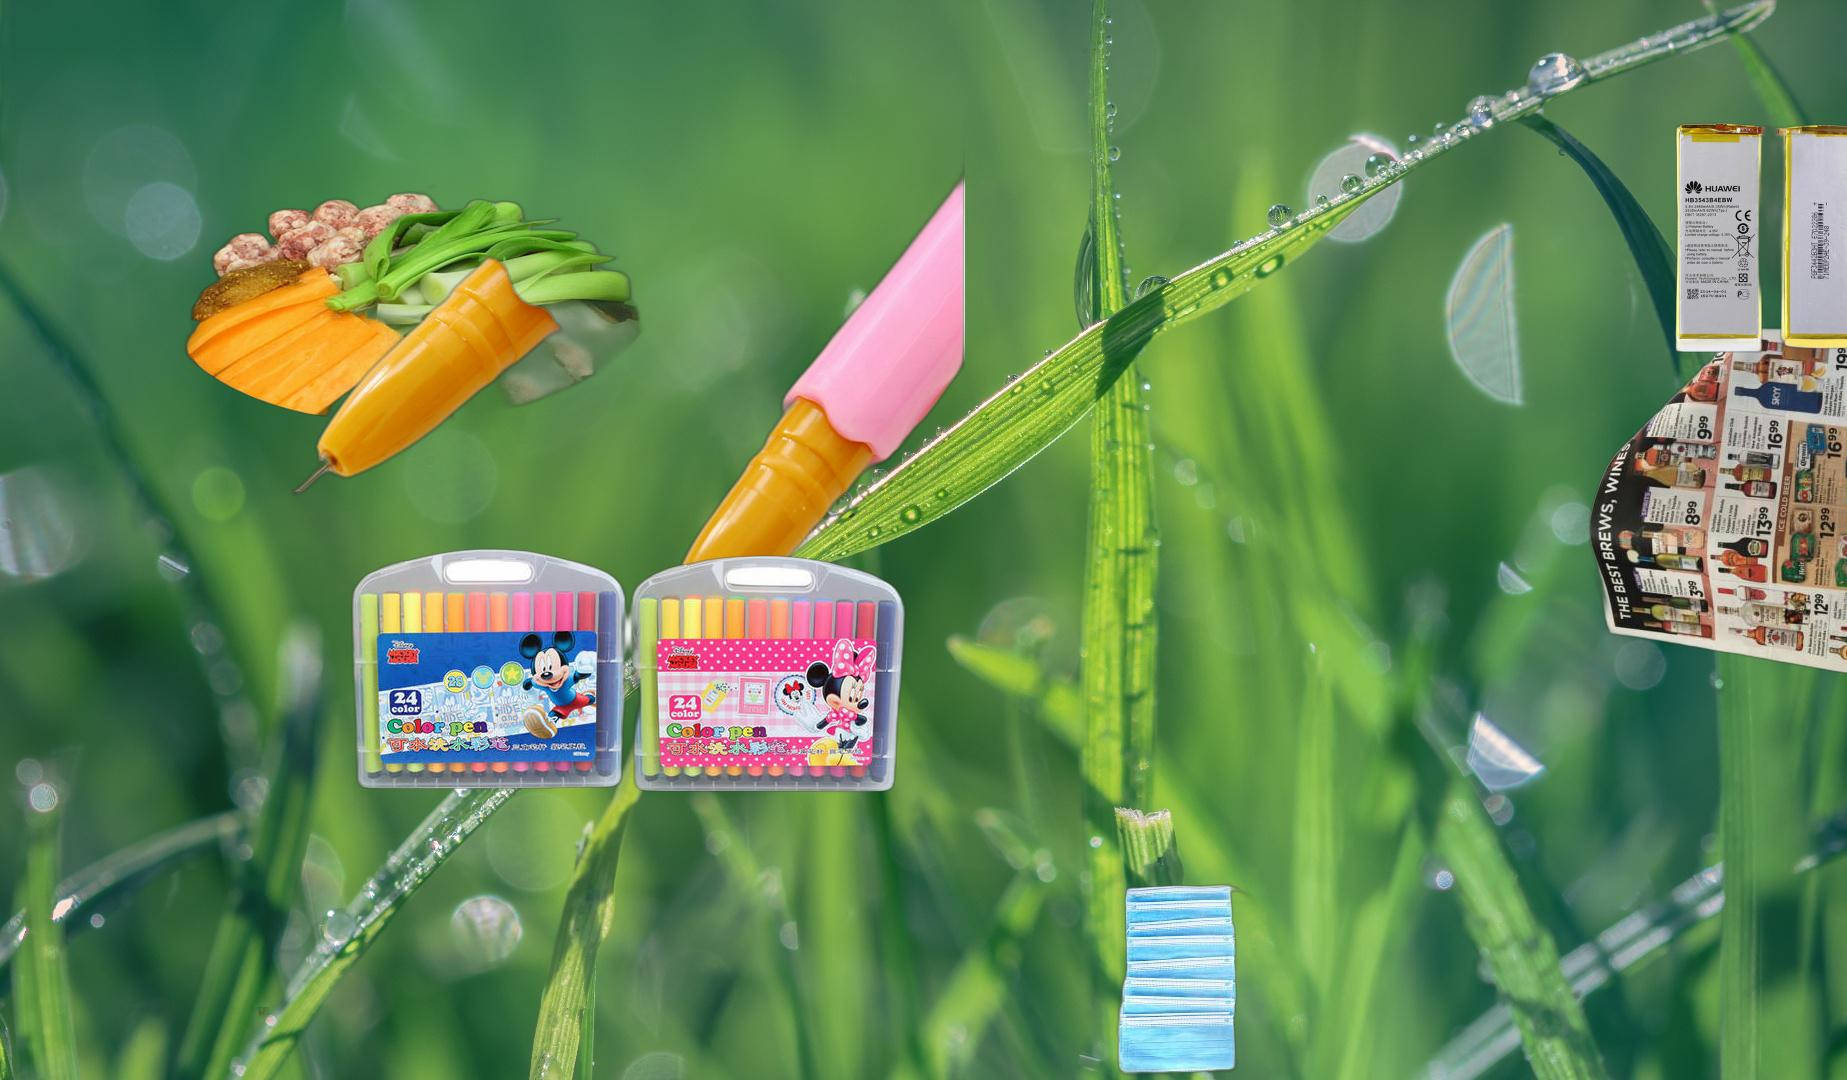battery: (1672, 120, 1847, 355)
biological: (181, 183, 668, 476)
paper: (1589, 324, 1847, 693)
penholder: (287, 63, 965, 672), (347, 546, 907, 793)
plastic-bottles: (120, 1007, 407, 1080)
trash: (1113, 882, 1274, 1080)
